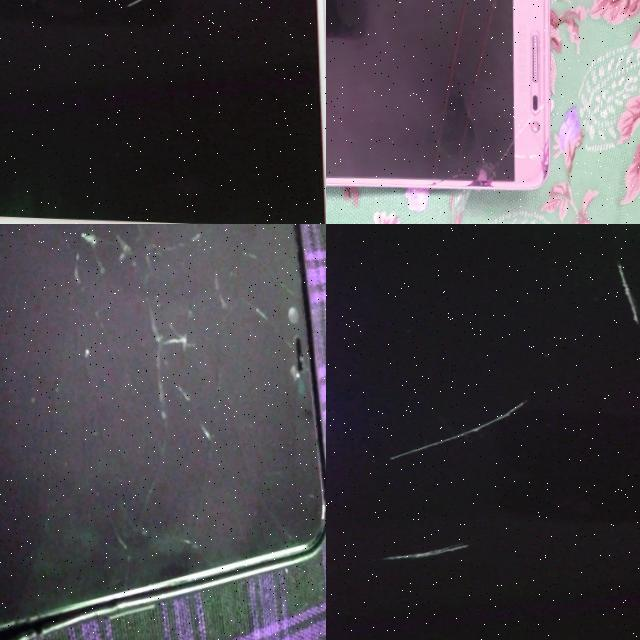scratch: (377, 385, 537, 466), (380, 533, 472, 564), (606, 258, 640, 323)
screen crack: (61, 224, 257, 480), (409, 0, 544, 212)
